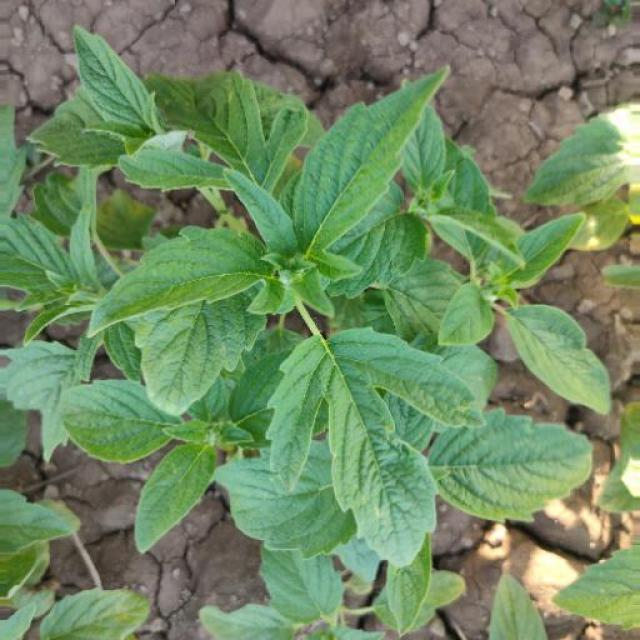weed: (19, 74, 599, 626)
